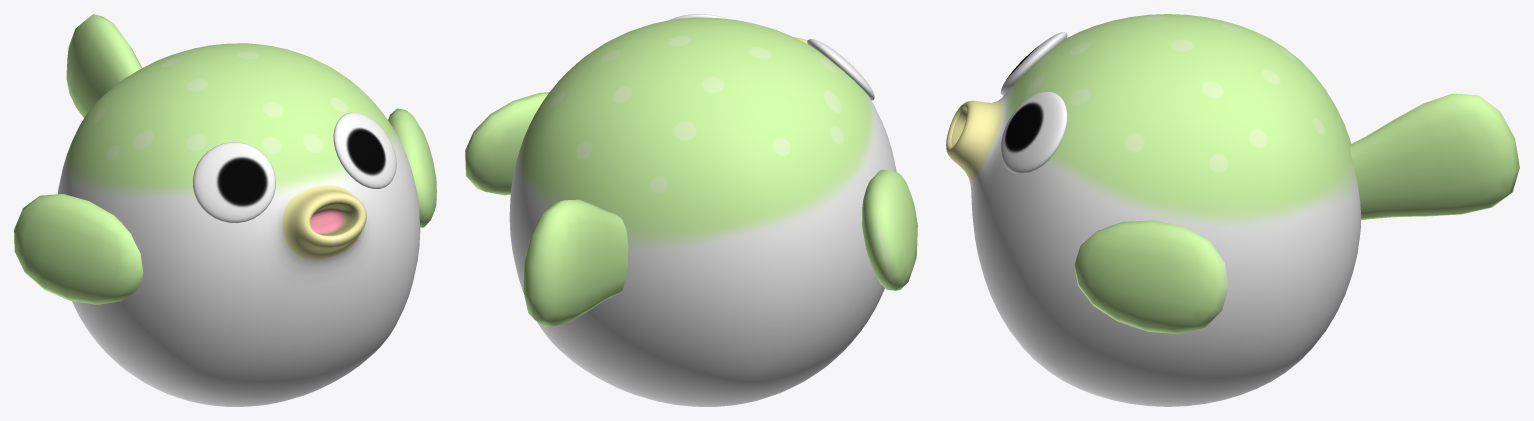
Rendered from fugu.glb.
3 renders of one model, left to right at view 1: azimuth 30°, elevation 25°; view 2: azimuth 150°, elevation 25°; view 3: azimuth 270°, elevation 25°, orthographic. The views are drawn at different scales.
Visible parts, largest first — view 1: Cube, 立方体, 球, 立方体.001; view 2: Cube, 立方体.001, 立方体, 球; view 3: Cube, 立方体.001, 立方体, 球.
Boxes of the visible parts, <box> form: Cube: <box>57,43,420,406</box>; 立方体: <box>14,108,436,304</box>; 球: <box>193,112,396,222</box>; 立方体.001: <box>66,14,142,117</box>; Cube: <box>509,17,896,406</box>; 立方体.001: <box>523,199,628,327</box>; 立方体: <box>465,92,917,290</box>; 球: <box>669,14,874,100</box>; Cube: <box>946,14,1361,406</box>; 立方体.001: <box>1350,93,1519,219</box>; 立方体: <box>1074,220,1228,334</box>; 球: <box>1000,32,1067,173</box>.
Size of the model in its own units: 2.09 by 1.6 by 2.37.
1 material, 1 textured.
